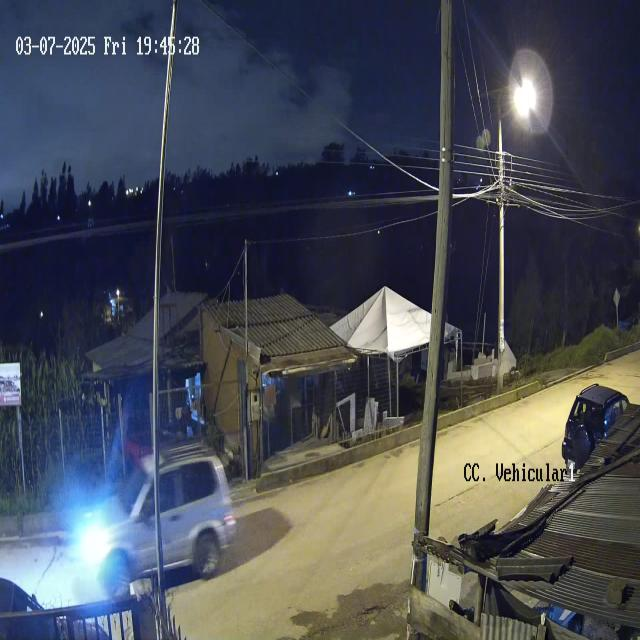SUV: (81, 442, 237, 598)
